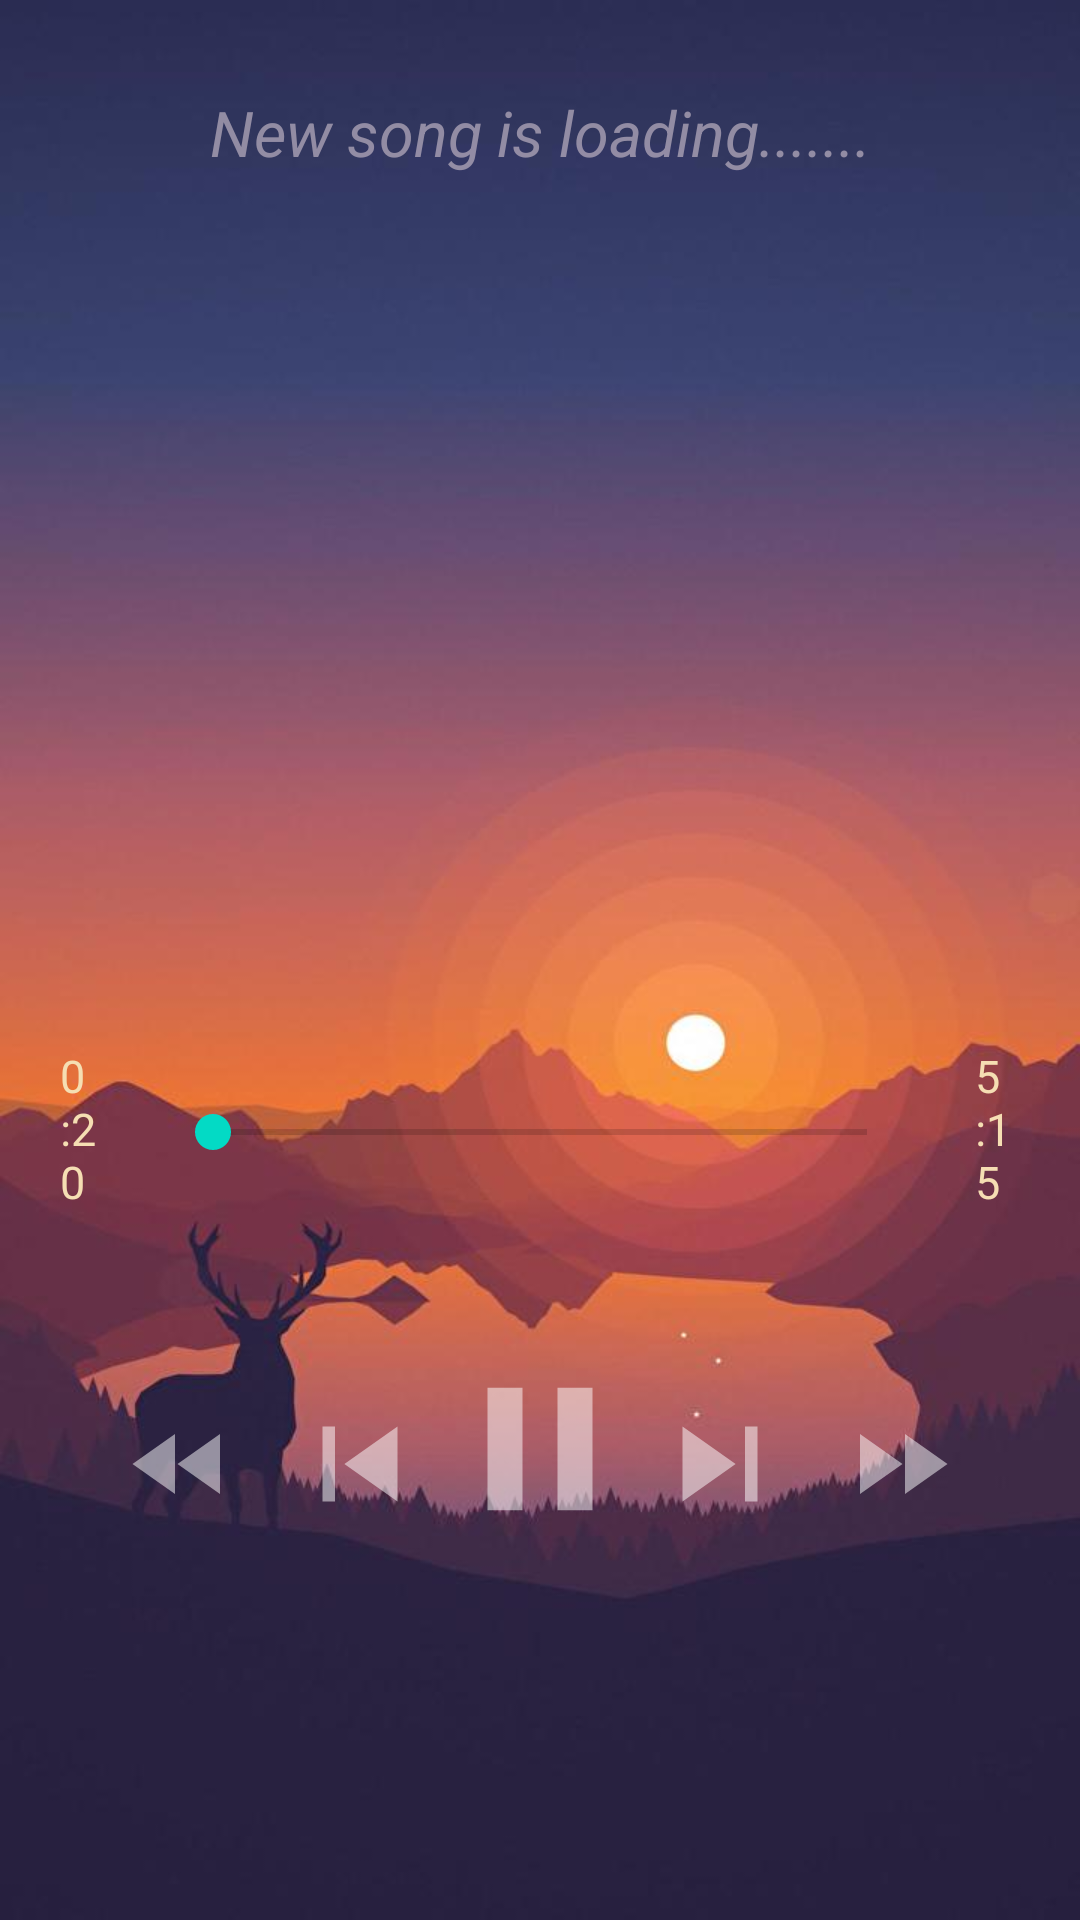

Icons on this 1080x1920 Android screen, each with the point to tap as point (x, y):
forward: point (900, 1464)
next: point (720, 1464)
pause: point (540, 1449)
previous: point (360, 1464)
rewind: point (170, 1473)
